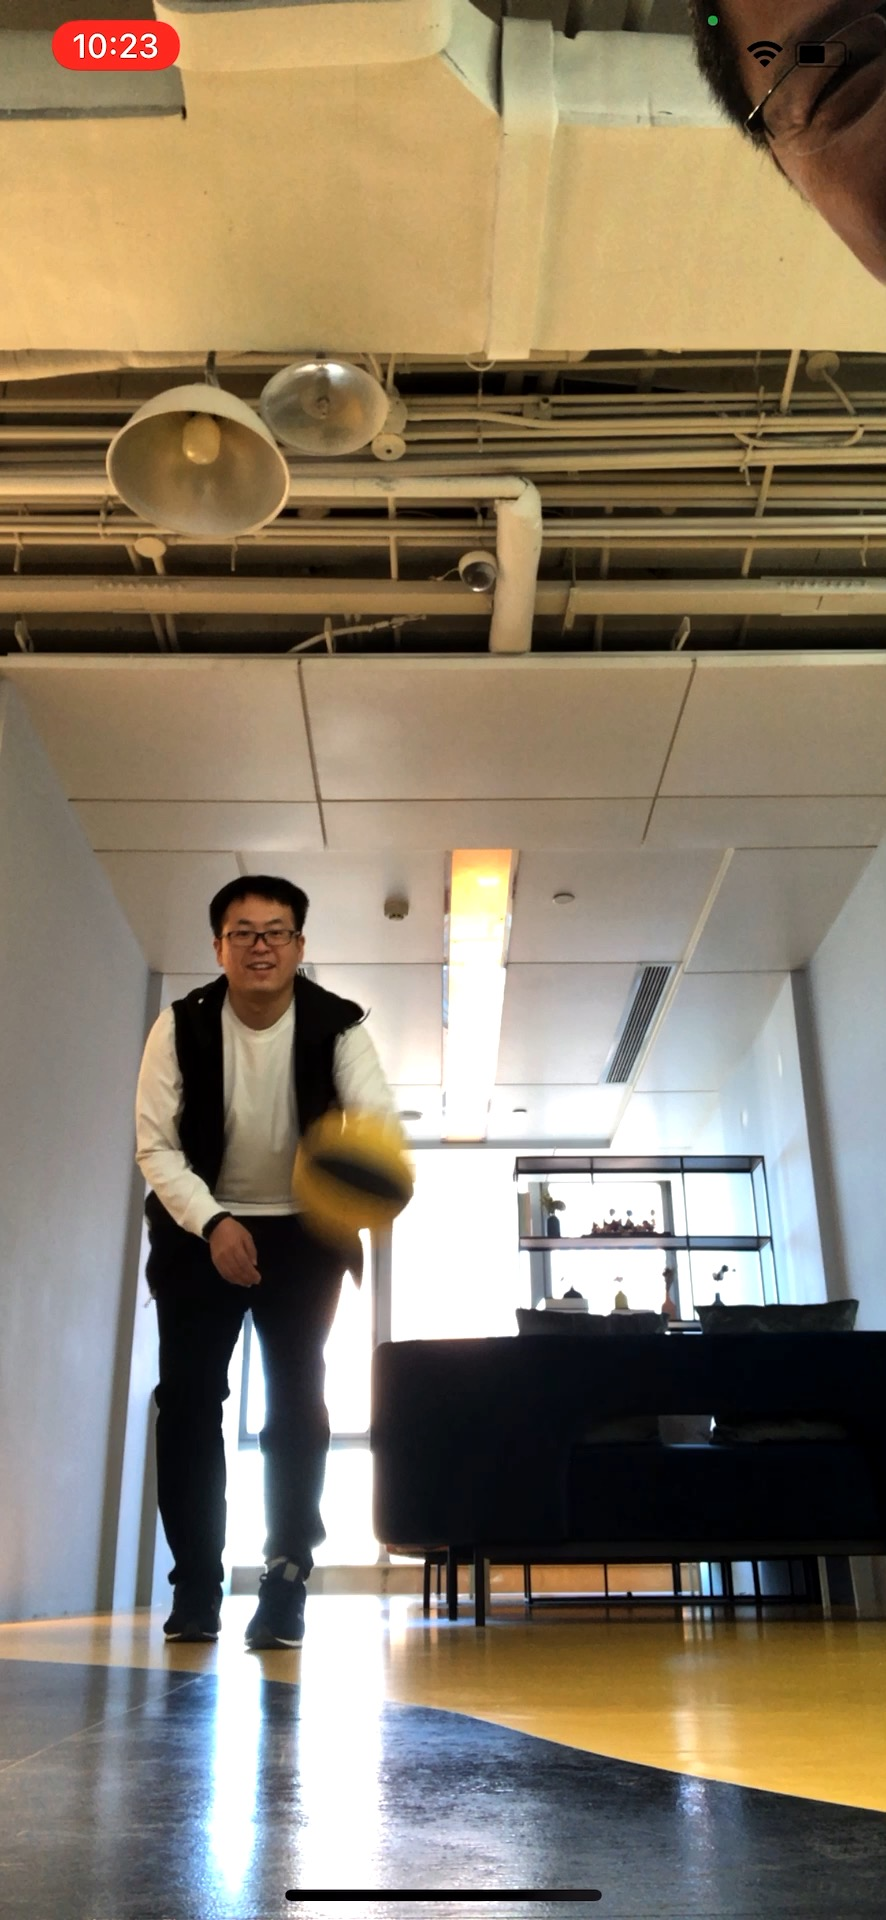ball: (288, 1109, 416, 1237)
